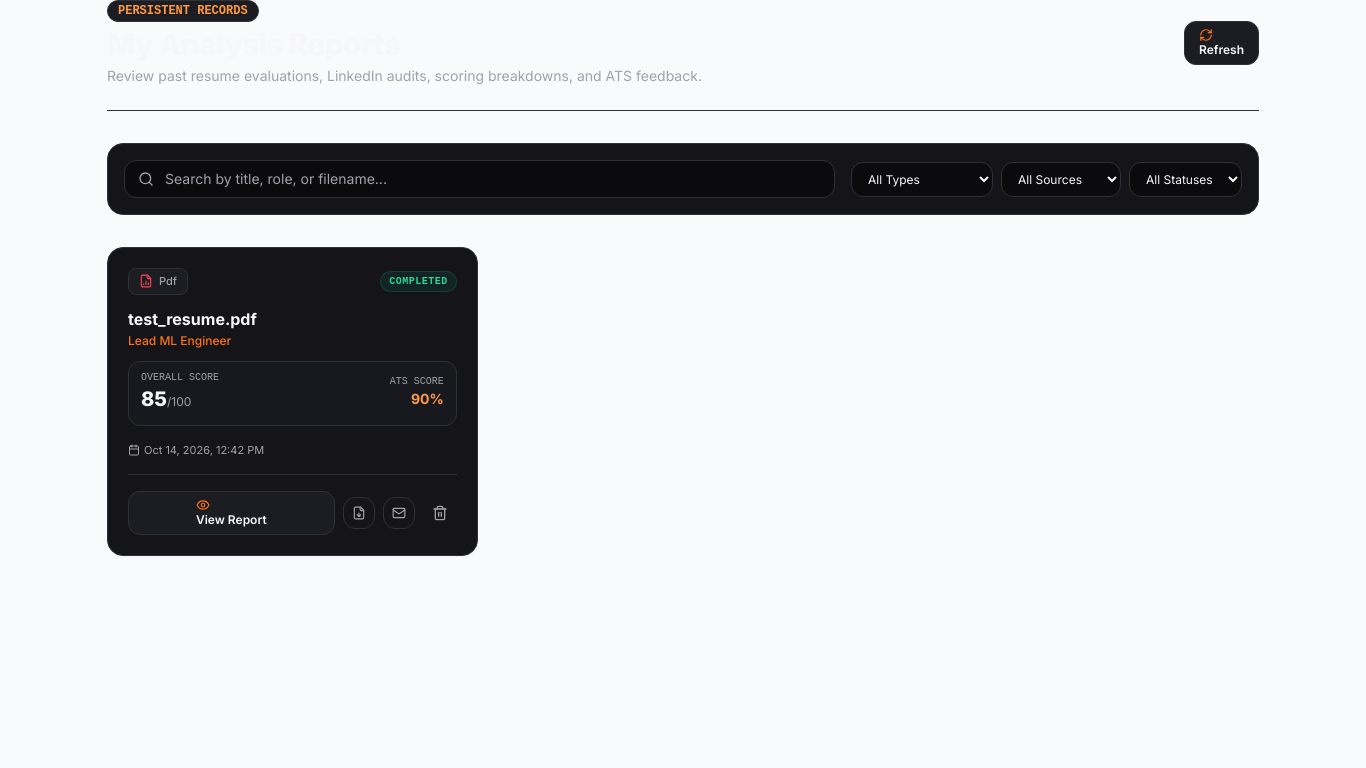
Test case: ReportsPage Component › opens report detail modal when clicking View Report
Expected: the heading "test_resume.pdf" is shown, 128,308 -> 257,328
Click the button "View Report".
click(231, 513)  # box 128,491 -> 335,535
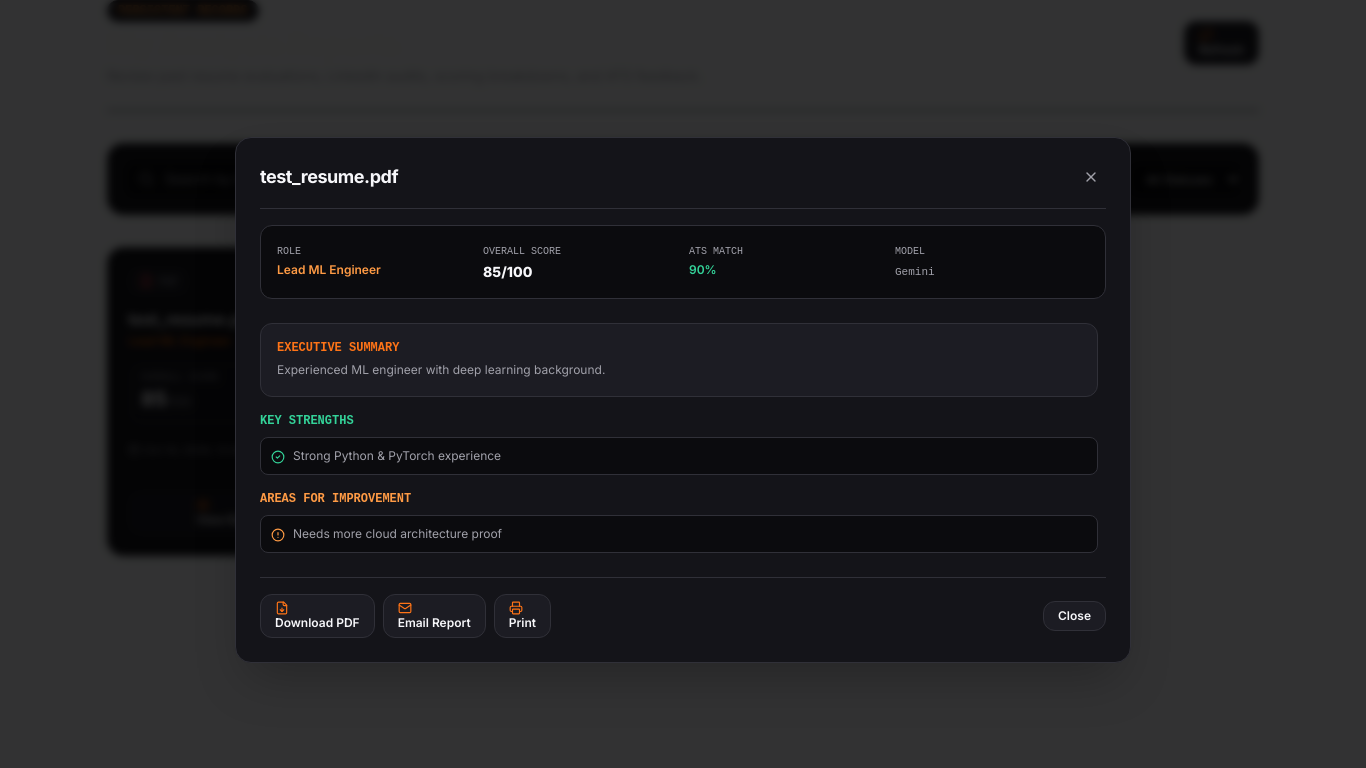
Now the text "Experienced ML engineer with deep learning background." is shown, box 277,362 -> 605,377
Now the text "Strong Python & PyTorch experience" is shown, box 293,448 -> 501,464
